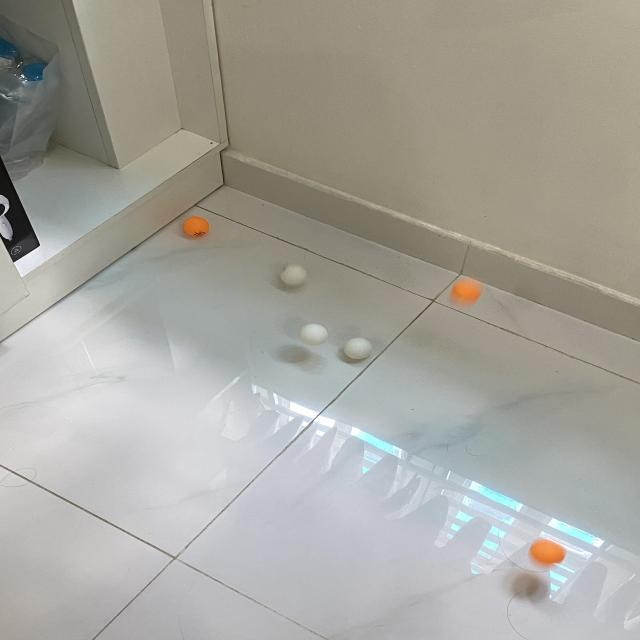ping-pong-ball: (530, 538, 566, 565), (298, 322, 330, 348), (451, 279, 481, 305), (280, 264, 309, 288), (346, 338, 374, 360), (182, 216, 211, 236)
